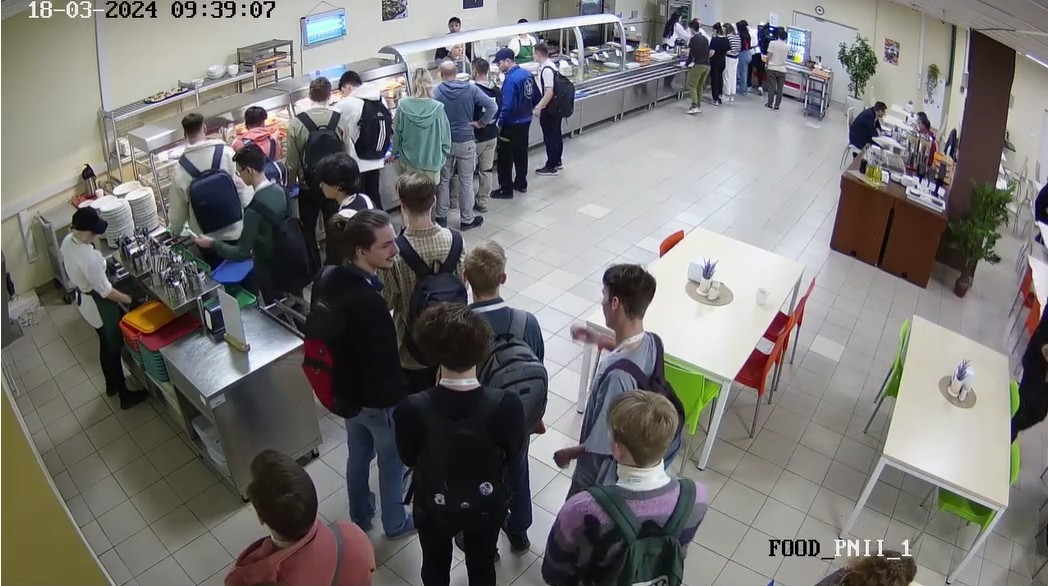Na_Kasse: (689, 26, 707, 112), (766, 34, 788, 101), (723, 19, 738, 102), (711, 25, 727, 102), (740, 16, 755, 91)
Ne_v_Ocheredi: (301, 207, 408, 522), (401, 294, 516, 586), (555, 394, 720, 586), (569, 261, 688, 480), (456, 240, 543, 518), (220, 441, 377, 586), (390, 173, 460, 326), (1008, 278, 1048, 432), (801, 534, 919, 586), (306, 153, 372, 244)
Personal: (50, 198, 146, 414), (508, 16, 538, 57), (442, 36, 478, 59), (661, 6, 680, 43), (447, 16, 469, 38)
Vybiraet: (211, 146, 300, 301), (169, 109, 239, 259), (430, 60, 486, 224), (465, 63, 506, 215), (497, 55, 539, 202), (398, 63, 447, 179), (287, 71, 348, 156), (346, 66, 390, 176), (529, 46, 565, 170), (241, 102, 282, 154)
Za_Stolom: (845, 102, 888, 165), (1022, 176, 1048, 247), (900, 105, 935, 146)
